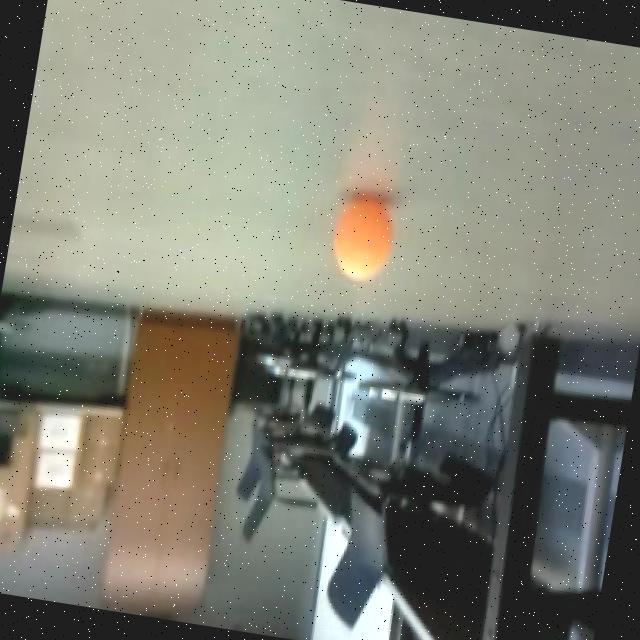ping-pong-ball: (321, 184, 402, 291)
